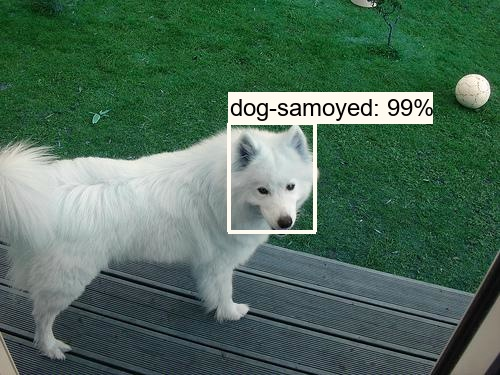dog-samoyed: (234, 124, 312, 237)
